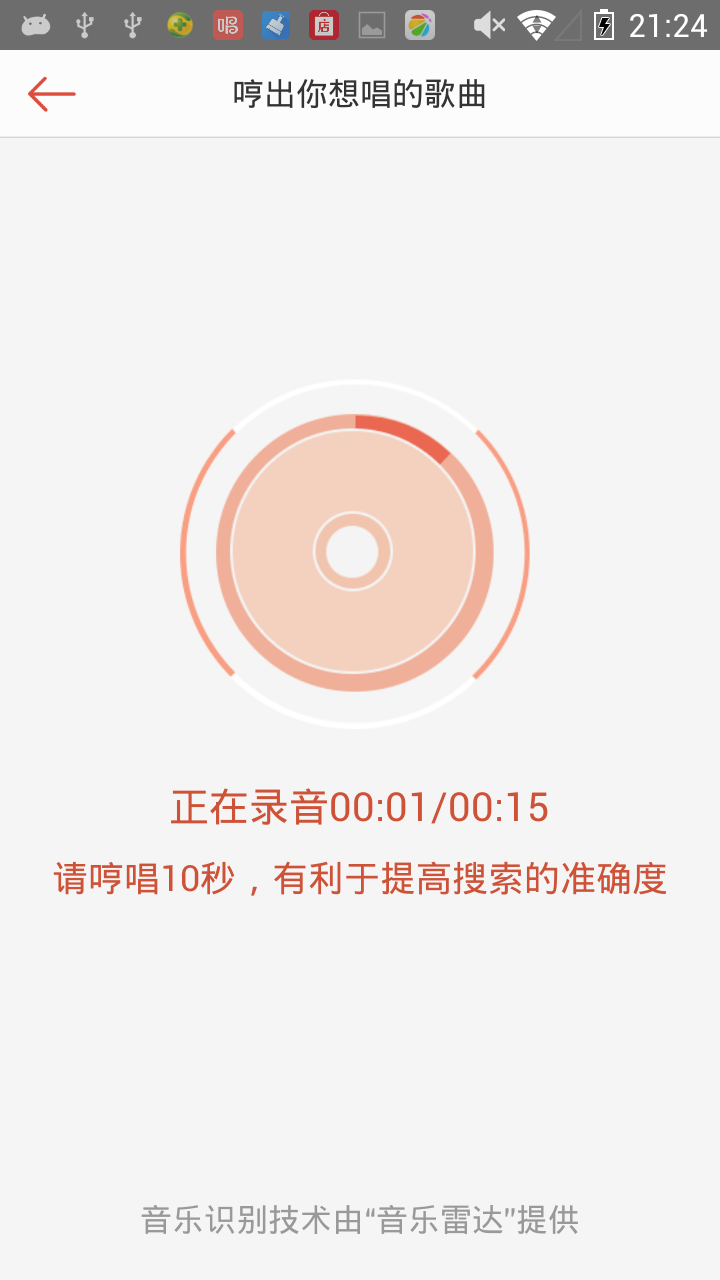imgbutton: (10, 67, 99, 123)
textview: (47, 764, 719, 913), (131, 64, 563, 142), (131, 1187, 613, 1255)
